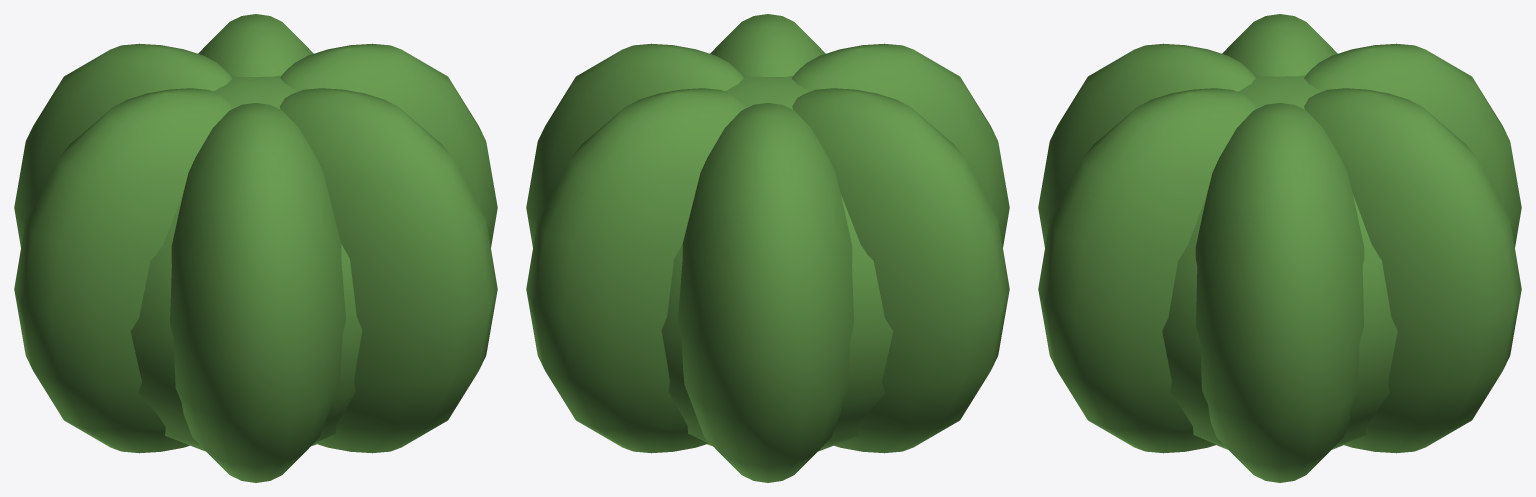
File: sku_cabbage.glb
3 views of the same model, side by side, from view 1: azimuth 30°, elevation 25°; view 2: azimuth 150°, elevation 25°; view 3: azimuth 270°, elevation 25° (orthographic).
Visible parts, largest first — view 1: sku_cabbage_FY21_fresh_leaf; view 2: sku_cabbage_FY21_fresh_leaf; view 3: sku_cabbage_FY21_fresh_leaf.
Boxes of the visible parts, <box> form: sku_cabbage_FY21_fresh_leaf: <box>14,14,497,482</box>; sku_cabbage_FY21_fresh_leaf: <box>526,14,1009,482</box>; sku_cabbage_FY21_fresh_leaf: <box>1038,14,1521,482</box>.
Size of the model in its own units: 0.36 by 0.27 by 0.3221.
